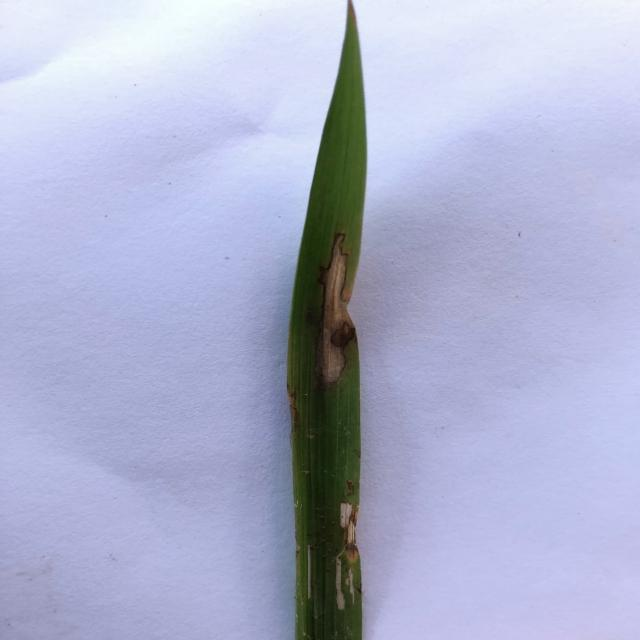leaf blight: (311, 231, 360, 387), (330, 502, 359, 613), (304, 544, 316, 604)
